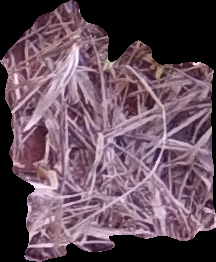soil: (2, 2, 215, 262)
